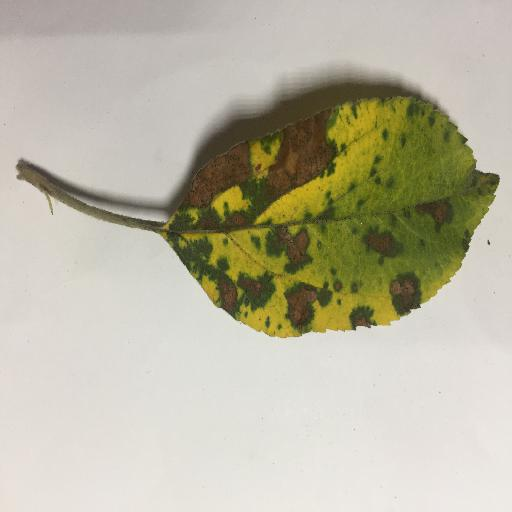Brown_Spot: (175, 123, 348, 200), (216, 268, 260, 307), (379, 277, 423, 314), (269, 228, 310, 263), (424, 195, 453, 228), (368, 229, 399, 259), (290, 287, 314, 324), (194, 211, 250, 225), (351, 305, 379, 325)
